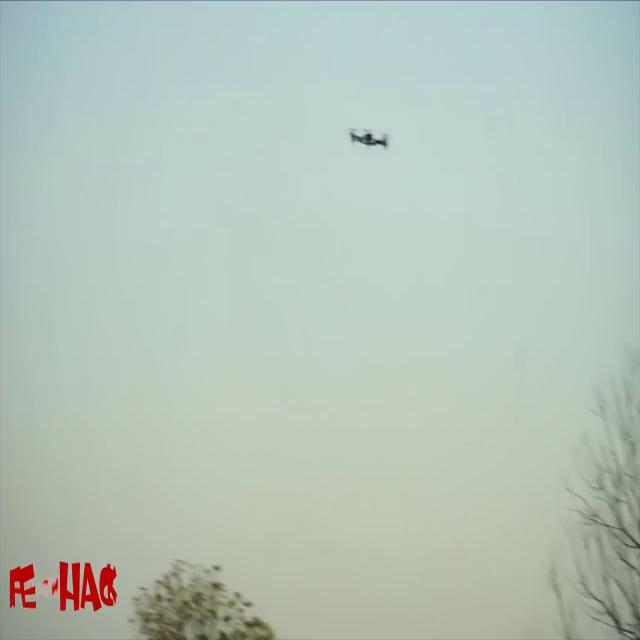drone: (335, 113, 407, 162)
